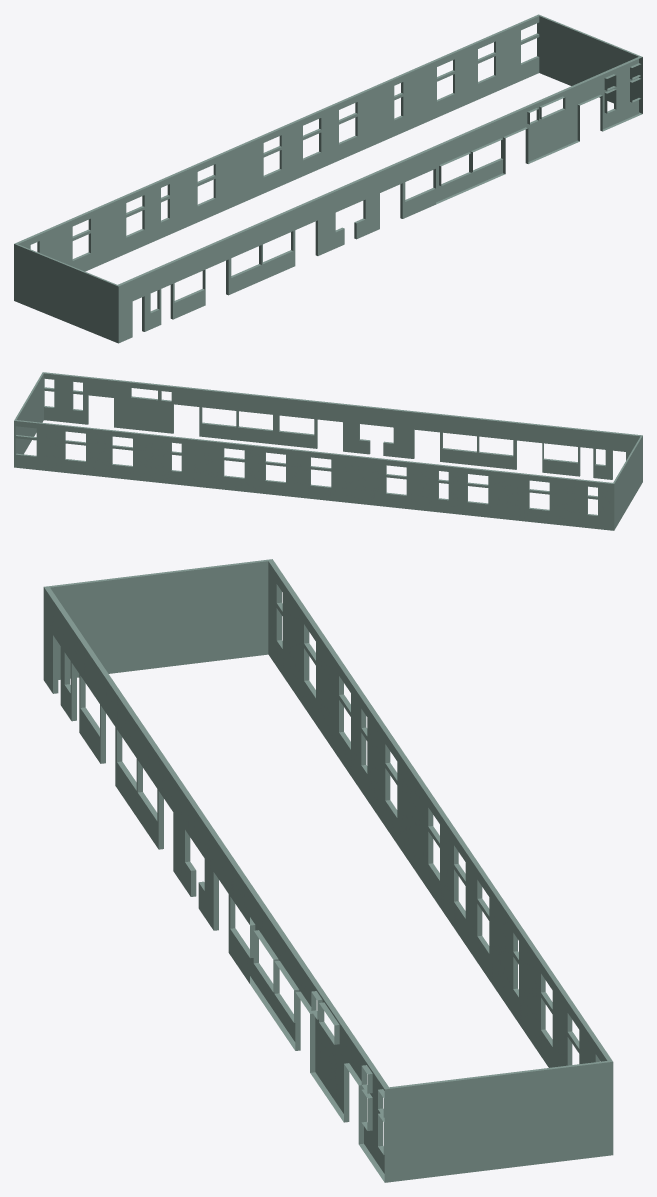
The picture shows the model from 3 angles, top to bottom: view 1: azimuth 30°, elevation 25°; view 2: azimuth 150°, elevation 25°; view 3: azimuth 270°, elevation 25°; orthographic projection. The views are drawn at different scales.
Visible parts, largest first — view 1: Cube.163; view 2: Cube.163; view 3: Cube.163.
Part boxes in pixels (<box>): Cube.163: <box>14,14,642,343</box>; Cube.163: <box>14,372,642,530</box>; Cube.163: <box>43,559,613,1182</box>.
Size of the model in its own units: 285 by 23.39 by 129.
